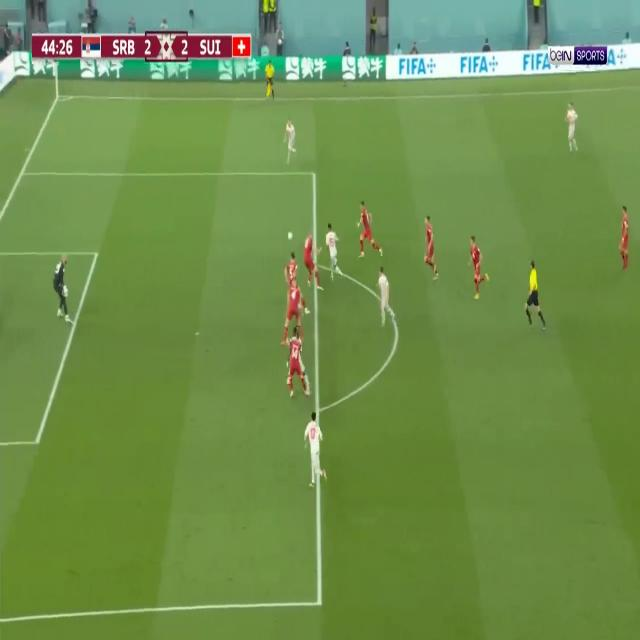Ball: (288, 231, 293, 241)
GoalKeeper: (52, 252, 75, 325)
Referee: (525, 260, 545, 333), (264, 58, 276, 103)
TEAM 1: (354, 200, 384, 261), (468, 235, 490, 299), (280, 284, 300, 346), (304, 232, 324, 292), (289, 334, 306, 399), (424, 214, 438, 282), (619, 205, 630, 270), (284, 251, 298, 283)
TEAM 2: (304, 412, 328, 488), (377, 266, 395, 329), (324, 222, 340, 282), (564, 101, 578, 154), (283, 117, 297, 167)
